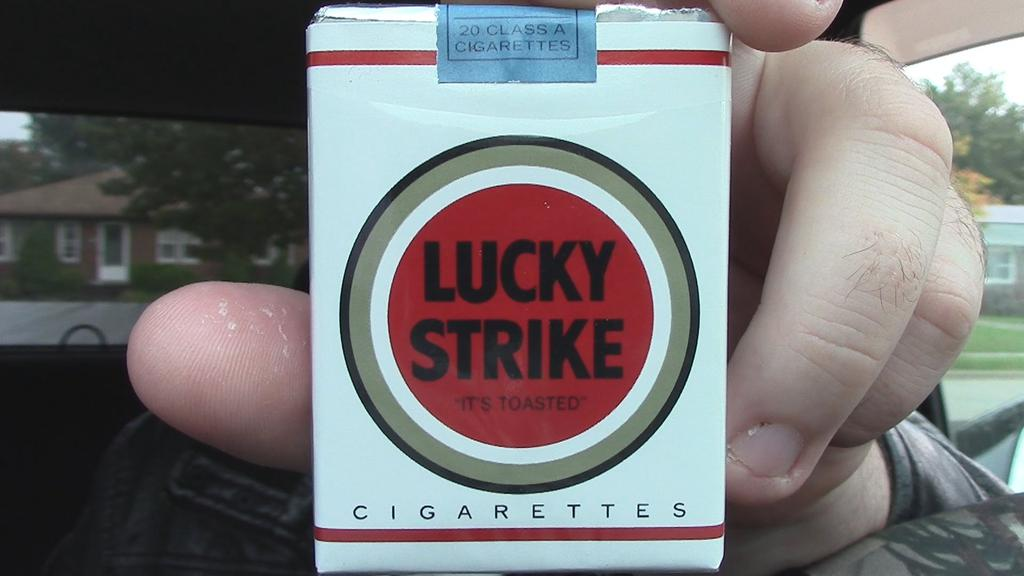lucky_strike_red: (312, 25, 722, 570)
